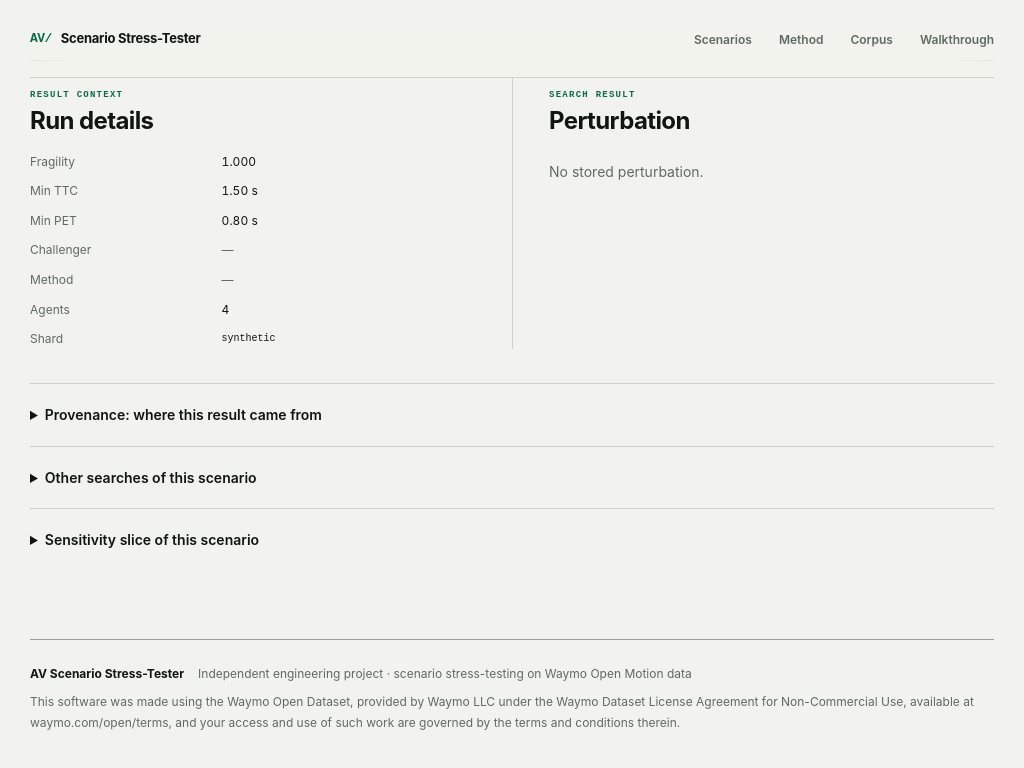
Test: asking for the trace › does not ask when a search is recorded without a run id either, and says nothing about a trace
This screenshot has width=1024, height=768.
(page scrolled)
Click the heading "Provenance: where this result came from" at (183, 414), box [45,406,322,423]
(page scrolled)
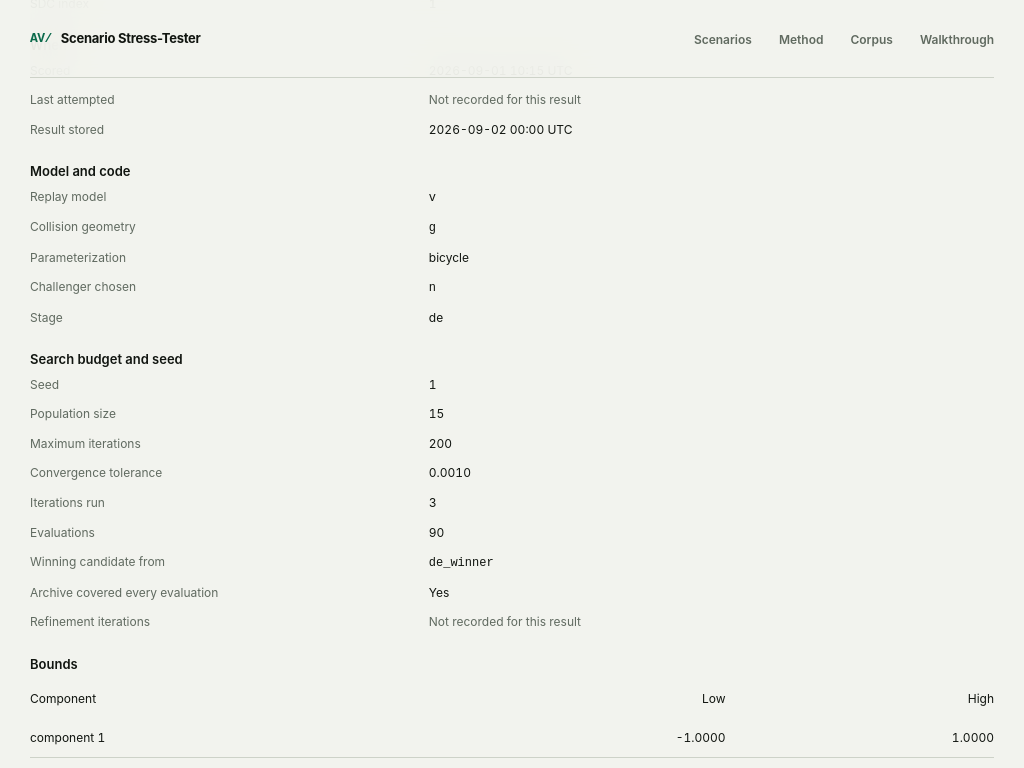
Expected: the text "Seed" is shown, [30,377,59,392]
